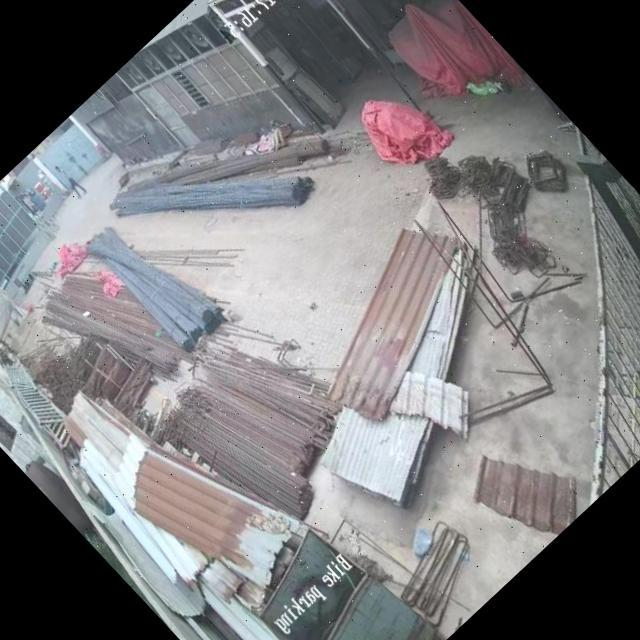person: (51, 160, 91, 202)
